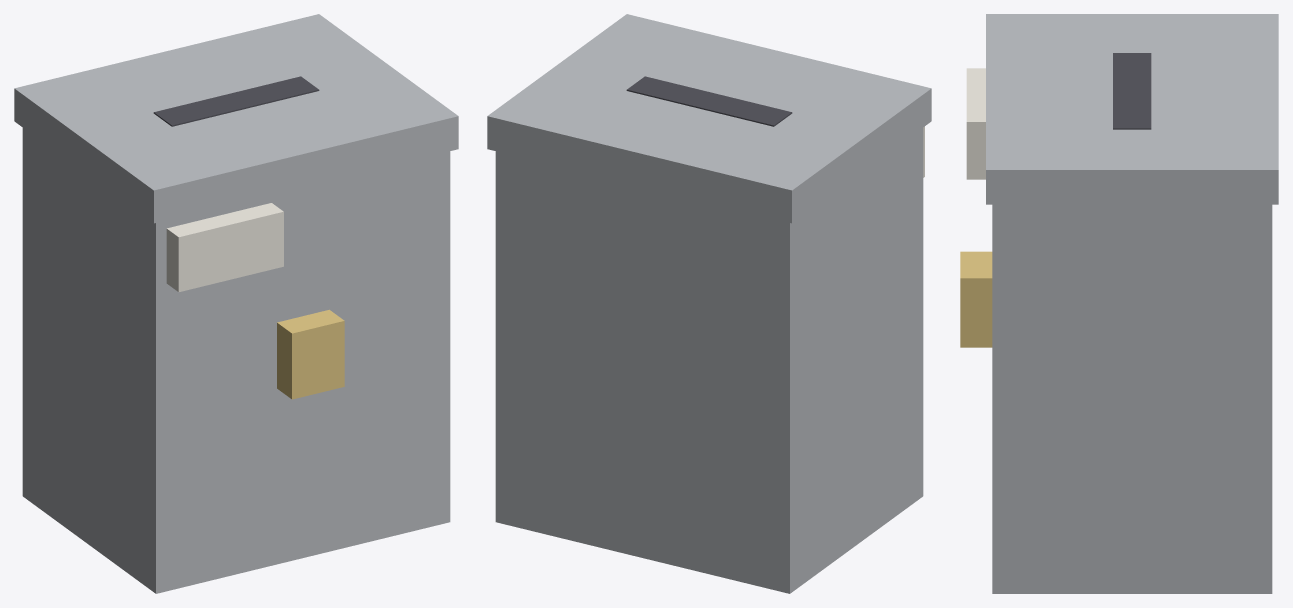
Rendered from casino-floor-and-back-rooms-drop-box-f30bf2d9__27035.glb.
3 renders of one model, left to right at view 1: azimuth 30°, elevation 25°; view 2: azimuth 150°, elevation 25°; view 3: azimuth 270°, elevation 25°, orthographic. The views are drawn at different scales.
Visible parts, largest first — view 1: drop-box; view 2: drop-box; view 3: drop-box.
Part boxes in pixels (x1,y1,x2,y2): drop-box: (14, 14, 458, 593); drop-box: (487, 14, 931, 593); drop-box: (960, 14, 1278, 593).
Bounding box in the file's own units: 0.29 × 0.3712 × 0.25.
